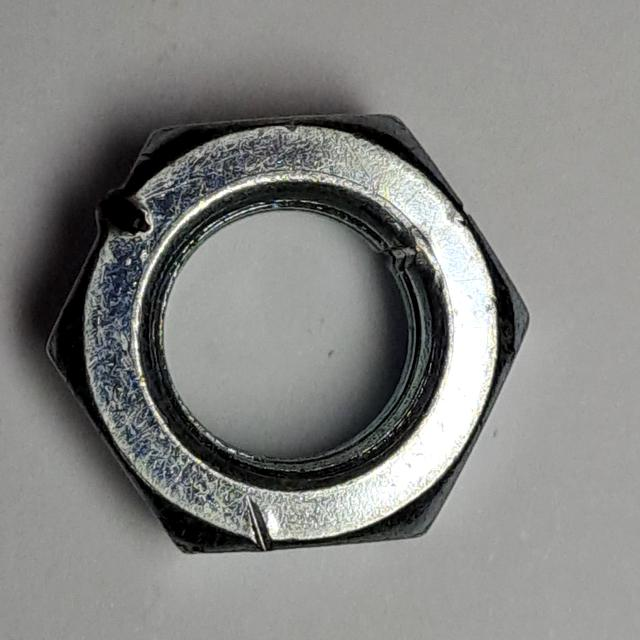Scratches: (34, 100, 549, 570)
